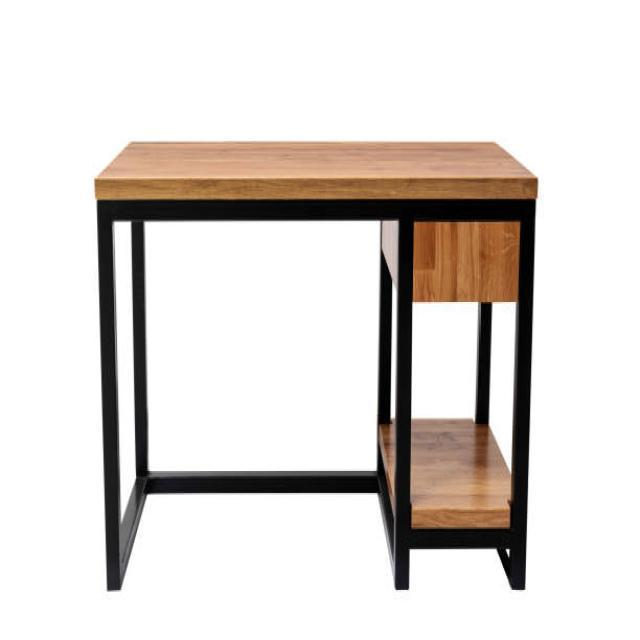table: (94, 138, 538, 592)
